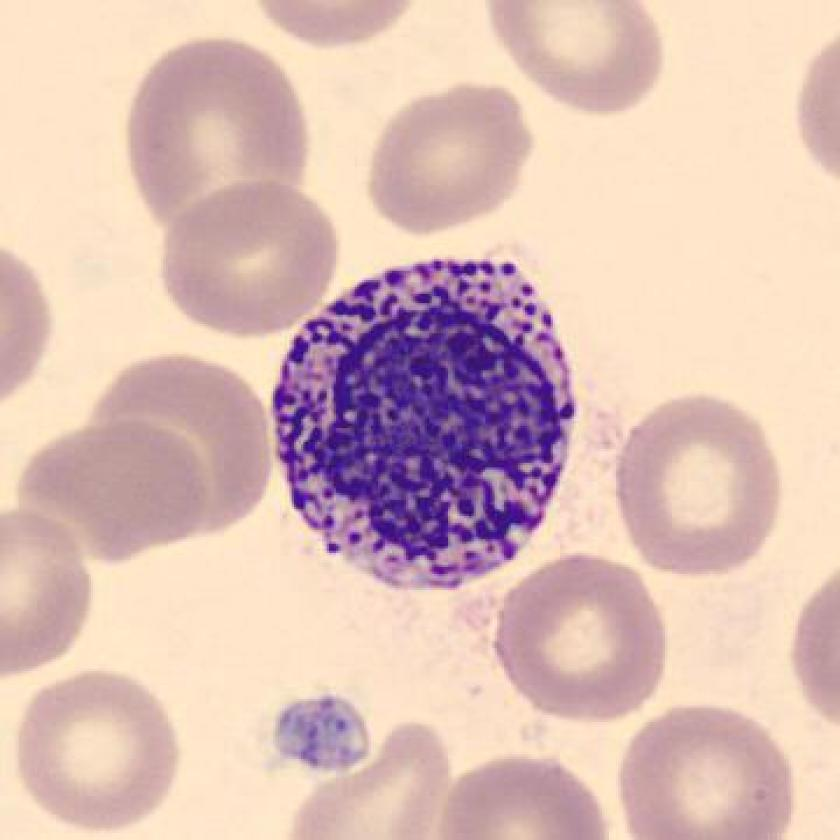basophil: (274, 251, 587, 596)
